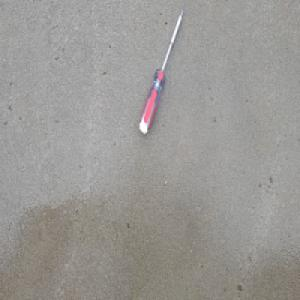Screwdriver: (137, 7, 184, 136)
